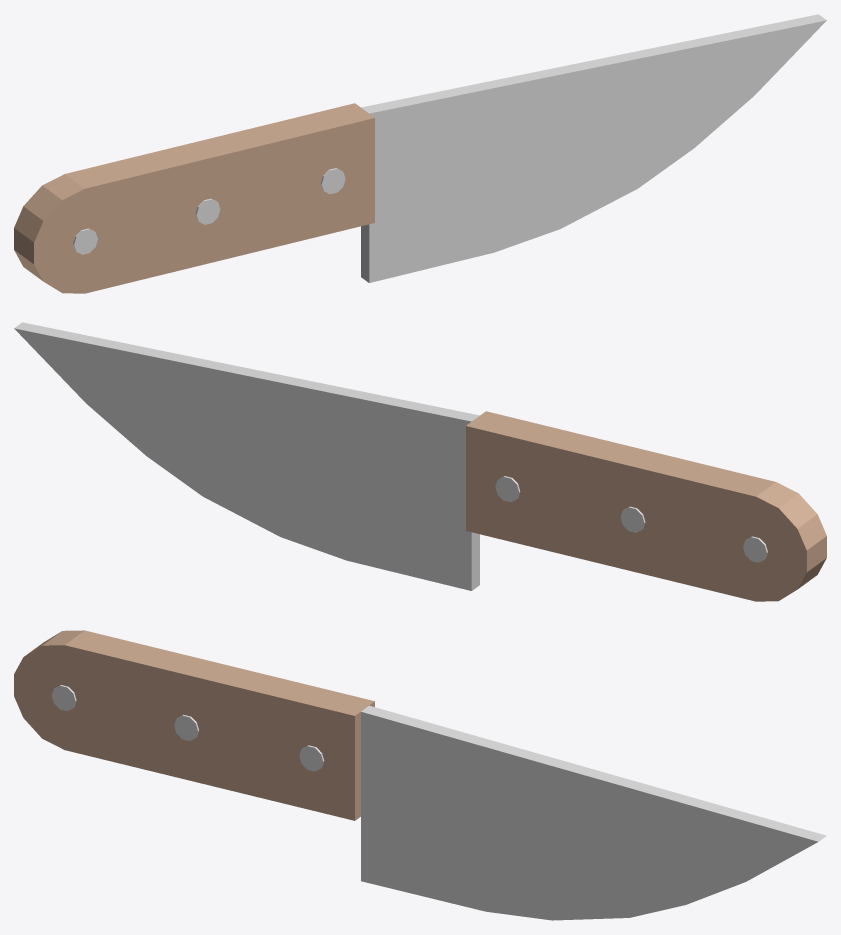
Rendered from Knife.fbx.
The picture shows the model from 3 angles, top to bottom: view 1: azimuth 30°, elevation 25°; view 2: azimuth 150°, elevation 25°; view 3: azimuth 330°, elevation 25°; orthographic projection.
Parts seen in each view (by area): view 1: Knife; view 2: Knife; view 3: Knife.
Part boxes in pixels (x1=…): Knife: x1=14, y1=14, x2=826, y2=293; Knife: x1=14, y1=322, x2=826, y2=601; Knife: x1=14, y1=630, x2=826, y2=920.
Bounding box in the file's own units: 0.2495 × 0.0506 × 0.0122.
